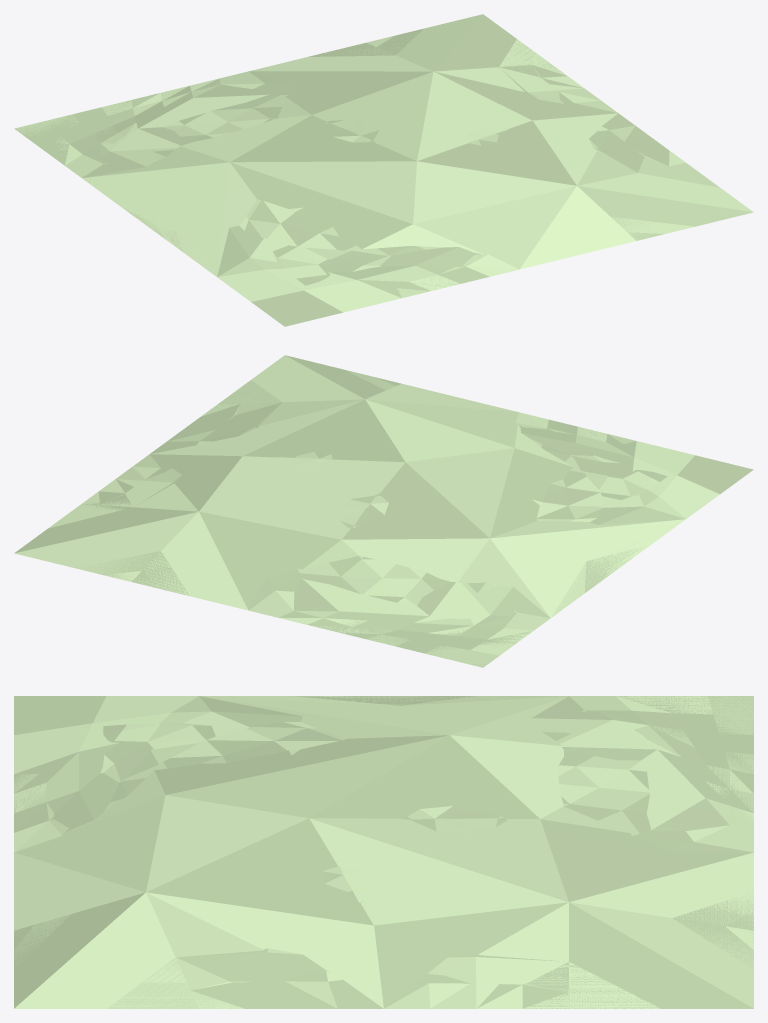
Rendered from Hill1.fbx.
The picture shows the model from 3 angles, top to bottom: view 1: azimuth 30°, elevation 25°; view 2: azimuth 150°, elevation 25°; view 3: azimuth 270°, elevation 25°; orthographic projection. The views are drawn at different scales.
Parts seen in each view (by area): view 1: Hill1_3, Hill1_2, Hill1_1; view 2: Hill1_3, Hill1_2, Hill1_1; view 3: Hill1_3, Hill1_2, Hill1_1.
Boxes of the visible parts, x1,y1,x2,y2 form: Hill1_3: (14, 14, 753, 276); Hill1_2: (15, 28, 719, 326); Hill1_1: (14, 36, 702, 297); Hill1_3: (14, 355, 684, 667); Hill1_2: (48, 369, 753, 666); Hill1_1: (65, 377, 667, 667); Hill1_3: (14, 696, 753, 1008); Hill1_2: (14, 696, 753, 1008); Hill1_1: (14, 696, 753, 1008).
Size of the model in its own units: 50 by 50 by 2.84.
